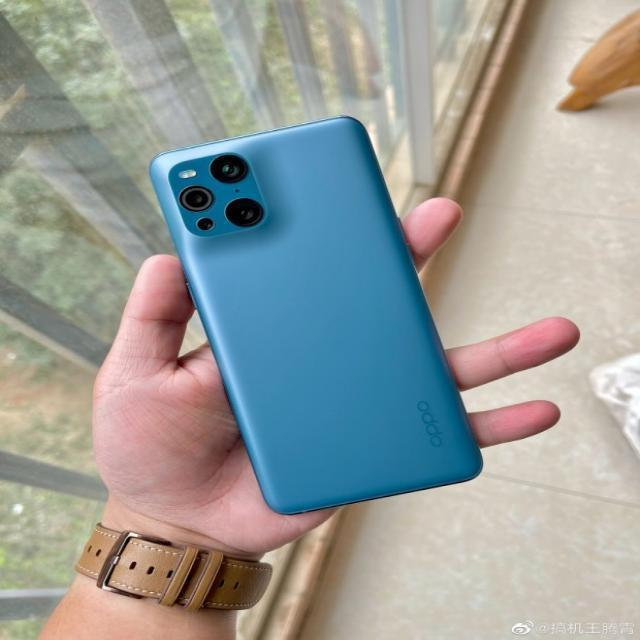lens: (172, 147, 268, 239)
phone: (143, 114, 484, 524)
